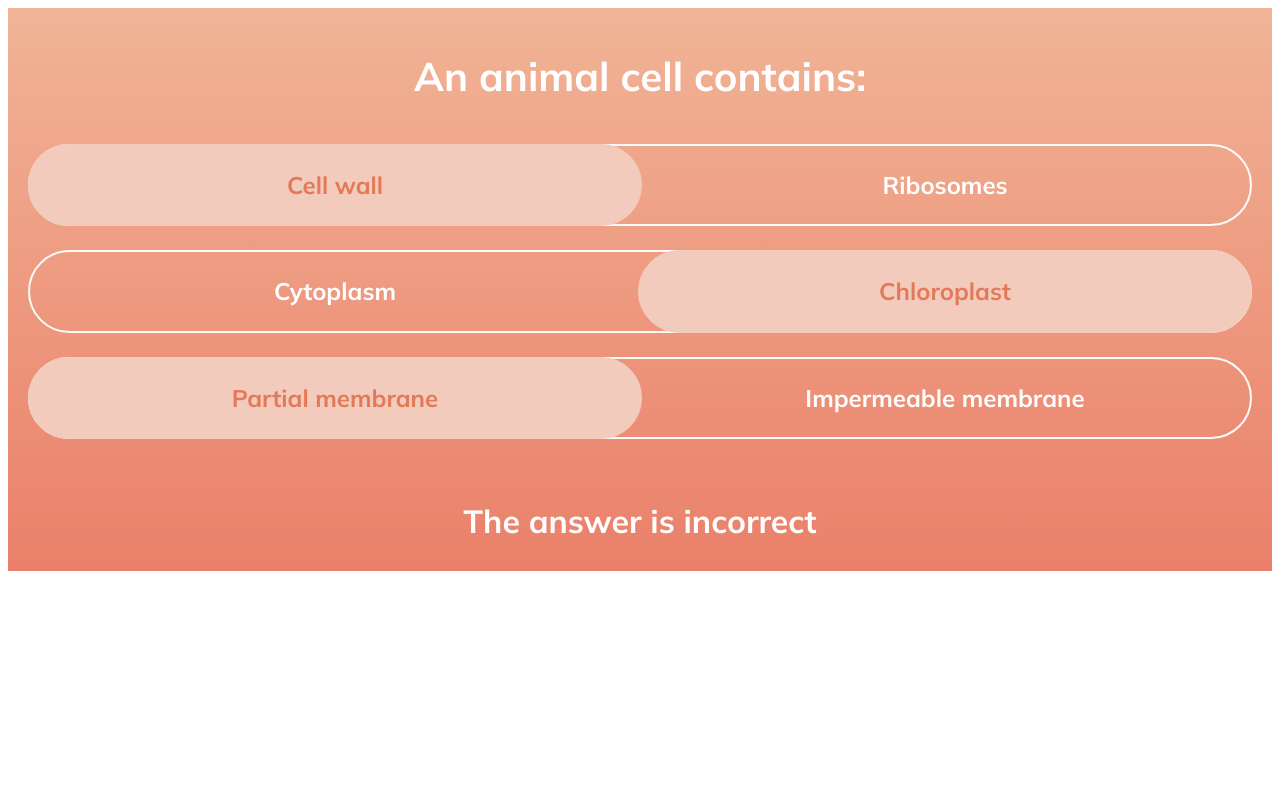
Test: marking last incorrect answer correct updates status text
The width and height of the screenshot is (1280, 800).
Click the element showing "Cytoplasm": (335, 291) [274,276,396,306]
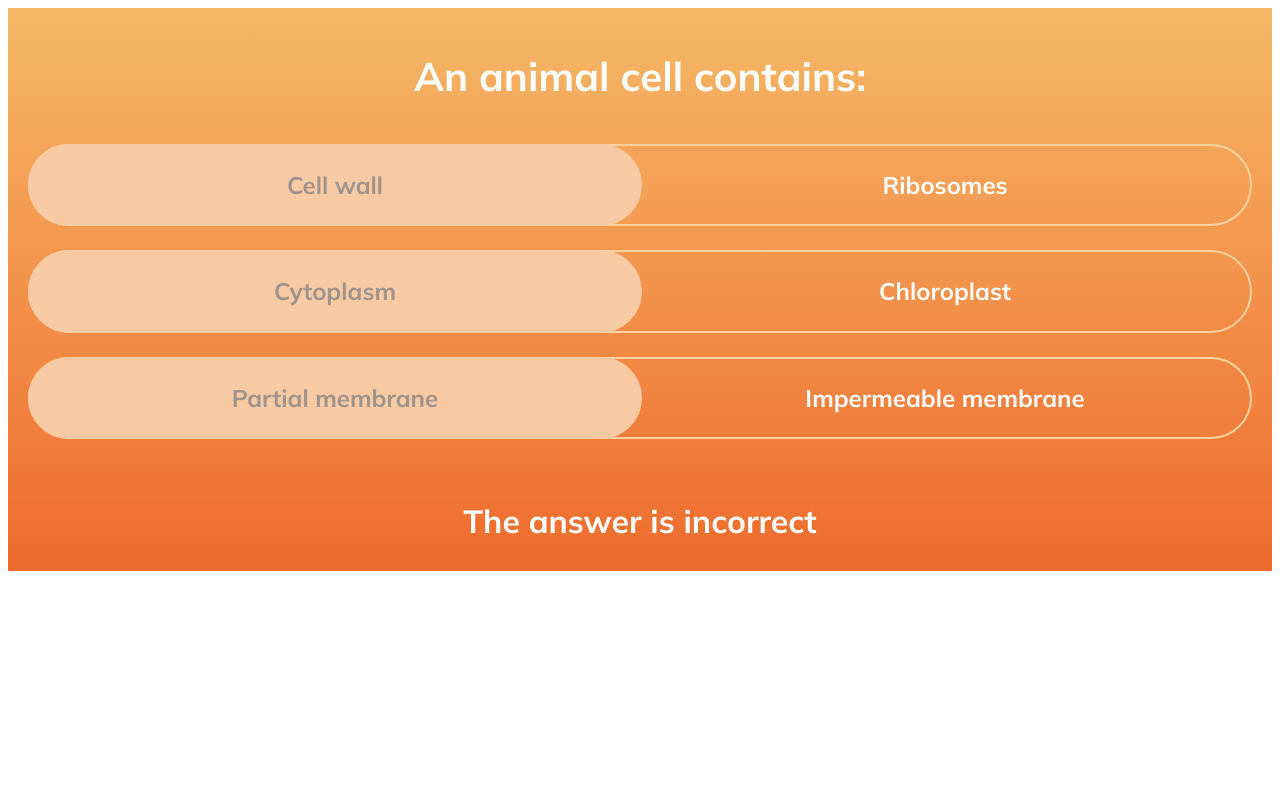
Click the element showing "Impermeable membrane": (945, 398) [805,383,1085,413]
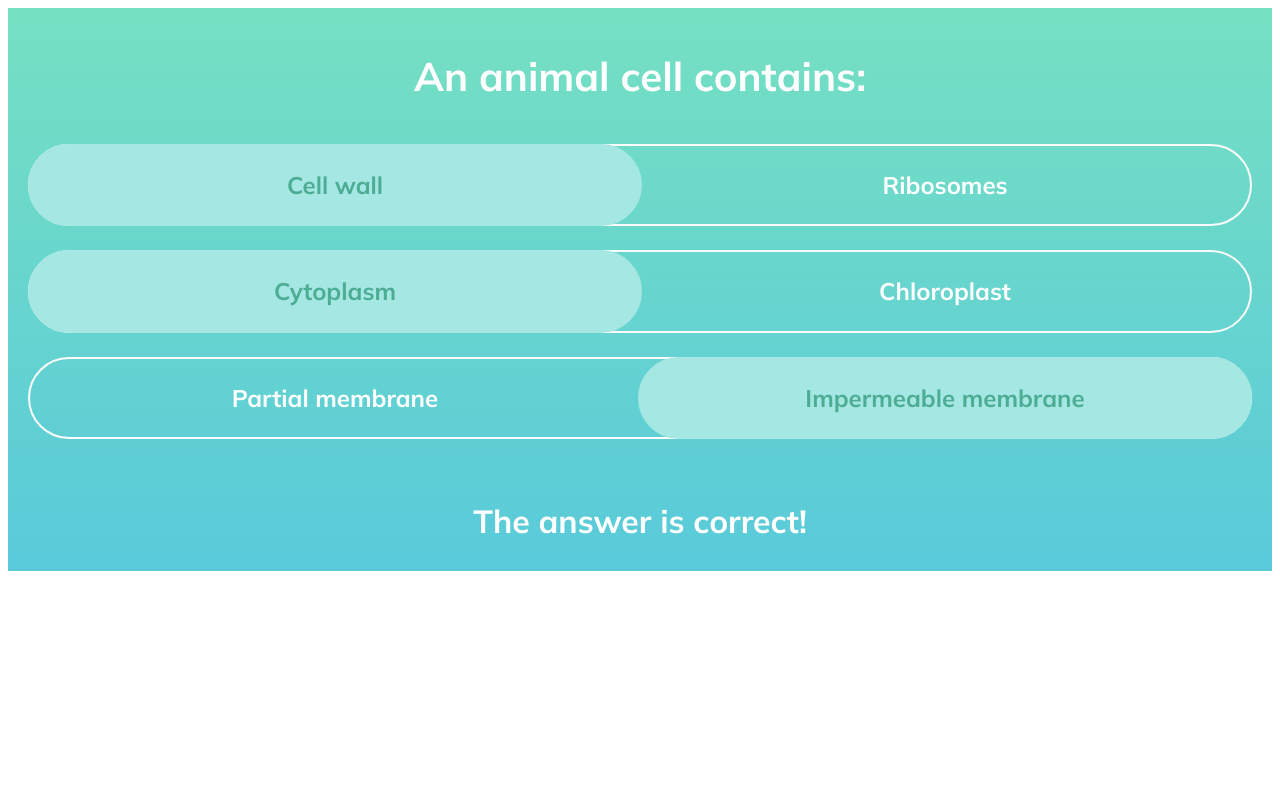
Now the heading "The answer is incorrect" reads "The answer is correct!", box [473,501,807,541]
